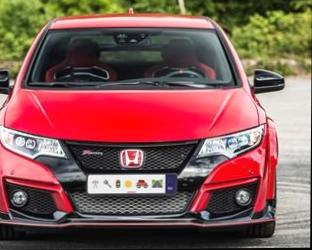License_Plate: (83, 172, 179, 196)
